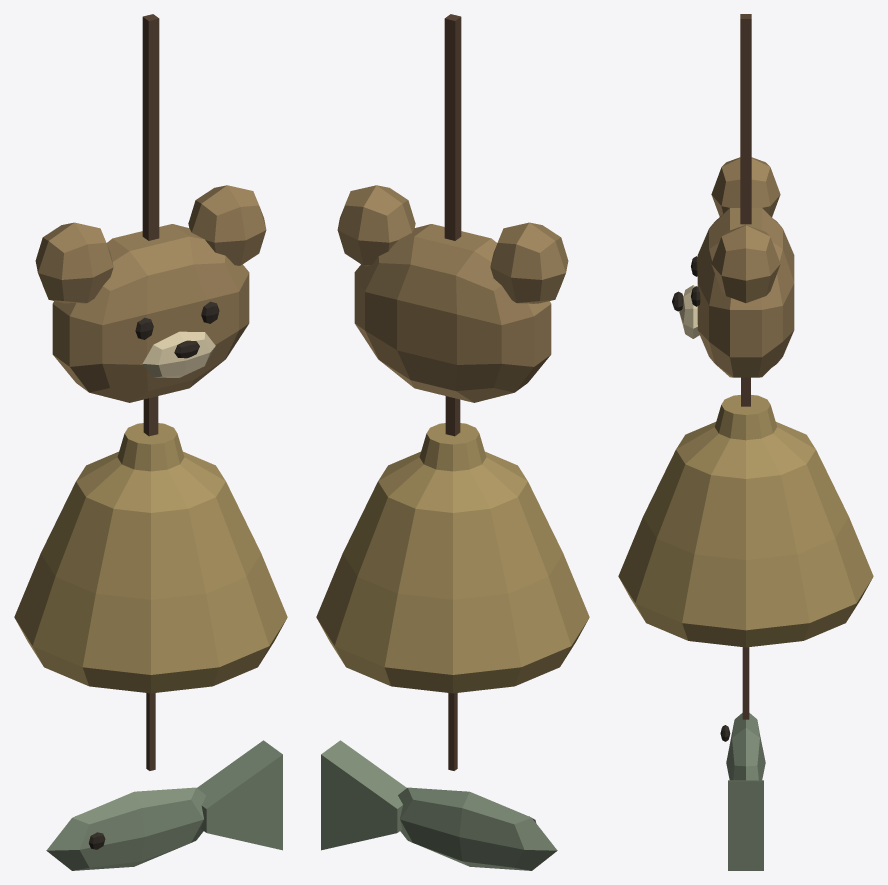
File: M05_Bear_Fish_Windchime.fbx
The picture shows the model from 3 angles, left to right: view 1: azimuth 30°, elevation 25°; view 2: azimuth 150°, elevation 25°; view 3: azimuth 270°, elevation 25°; orthographic projection. The views are drawn at different scales.
Parts seen in each view (by area): view 1: Bell, Structure.009, Fish_Tail; view 2: Bell, Structure.009, Fish_Tail; view 3: Bell, Structure.009, Fish_Tail.
Part boxes in pixels (<box>): Bell: <box>14,423,287,693</box>; Structure.009: <box>35,14,266,436</box>; Fish_Tail: <box>46,693,282,870</box>; Bell: <box>316,423,589,693</box>; Structure.009: <box>337,14,568,436</box>; Fish_Tail: <box>321,693,557,870</box>; Bell: <box>618,395,873,647</box>; Structure.009: <box>672,14,794,406</box>; Fish_Tail: <box>720,647,765,870</box>.
Bounding box in the file's own units: 31.5 × 107 × 31.
1 material, 1 textured.
